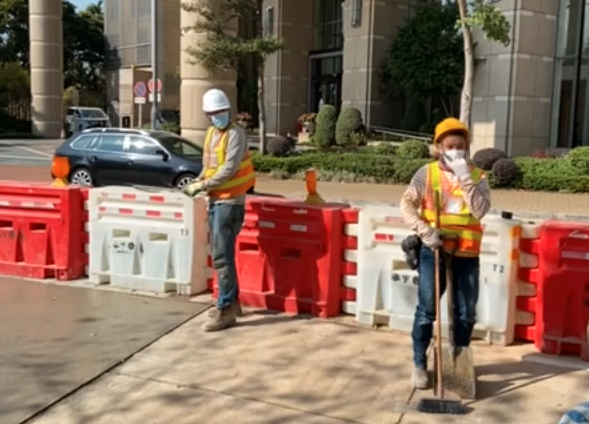Hard Hat: (433, 118, 471, 164), (203, 89, 234, 130)
Person: (402, 120, 490, 391), (192, 90, 258, 331)
Vest: (414, 145, 487, 258), (201, 114, 257, 199)
